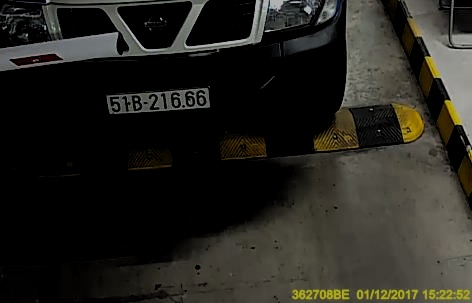plate: (104, 86, 209, 113)
